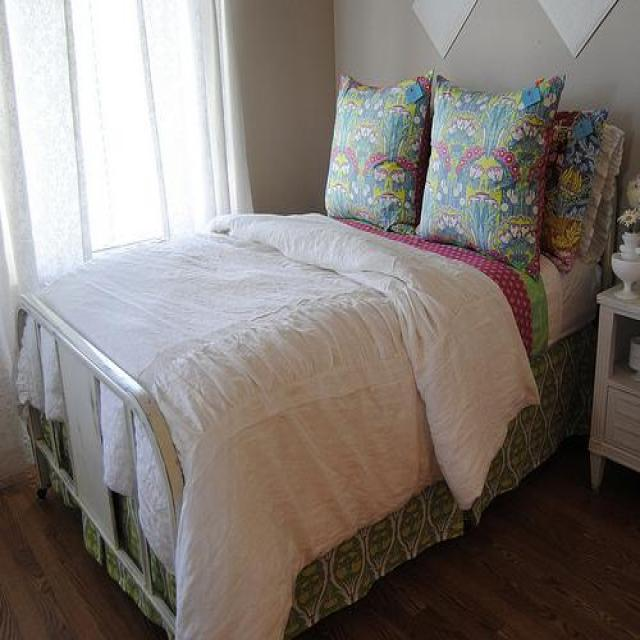bed: (15, 70, 628, 640)
